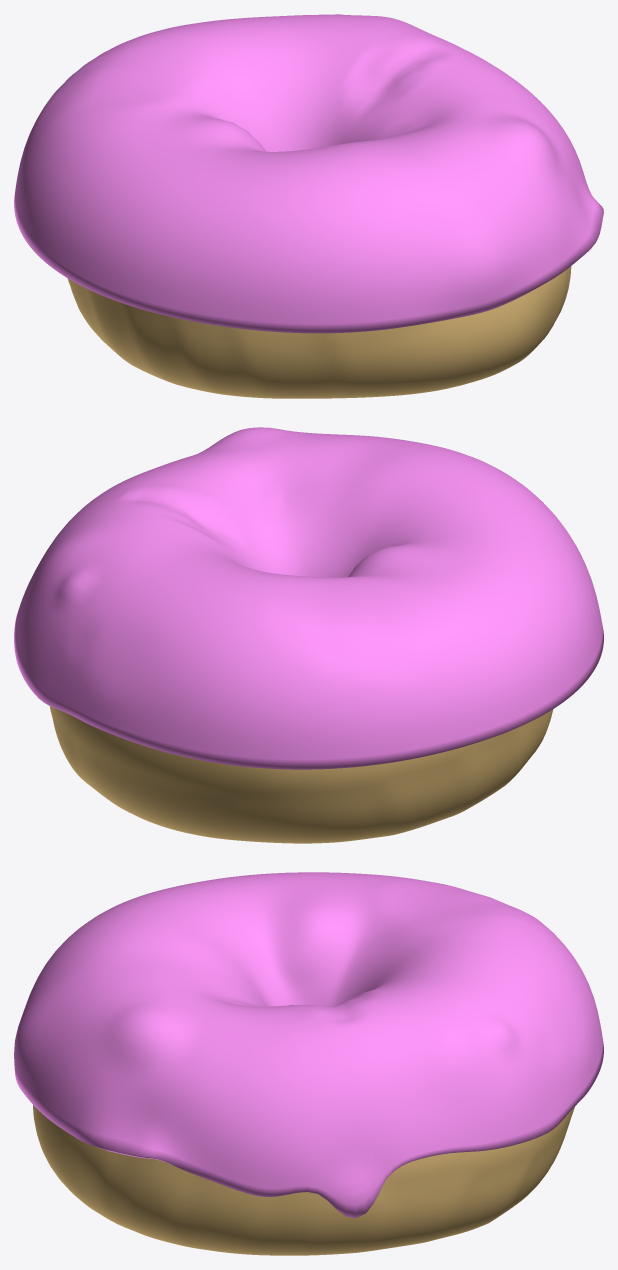
Rendered from donut.glb.
3 renders of one model, top to bottom at view 1: azimuth 30°, elevation 25°; view 2: azimuth 150°, elevation 25°; view 3: azimuth 270°, elevation 25°, orthographic. The views are drawn at different scales.
Parts seen in each view (by area): view 1: Icing, Donut; view 2: Icing, Donut; view 3: Icing, Donut.
Boxes of the visible parts, left/top/right/bottom form: Icing: left=14, top=14, right=603, bottom=333; Donut: left=67, top=266, right=571, bottom=398; Icing: left=14, top=427, right=603, bottom=769; Donut: left=49, top=706, right=553, bottom=843; Icing: left=14, top=872, right=603, bottom=1218; Donut: left=33, top=1105, right=574, bottom=1255.
Size of what is drawn, in the model's own units: 1.53 by 0.709 by 1.56.
